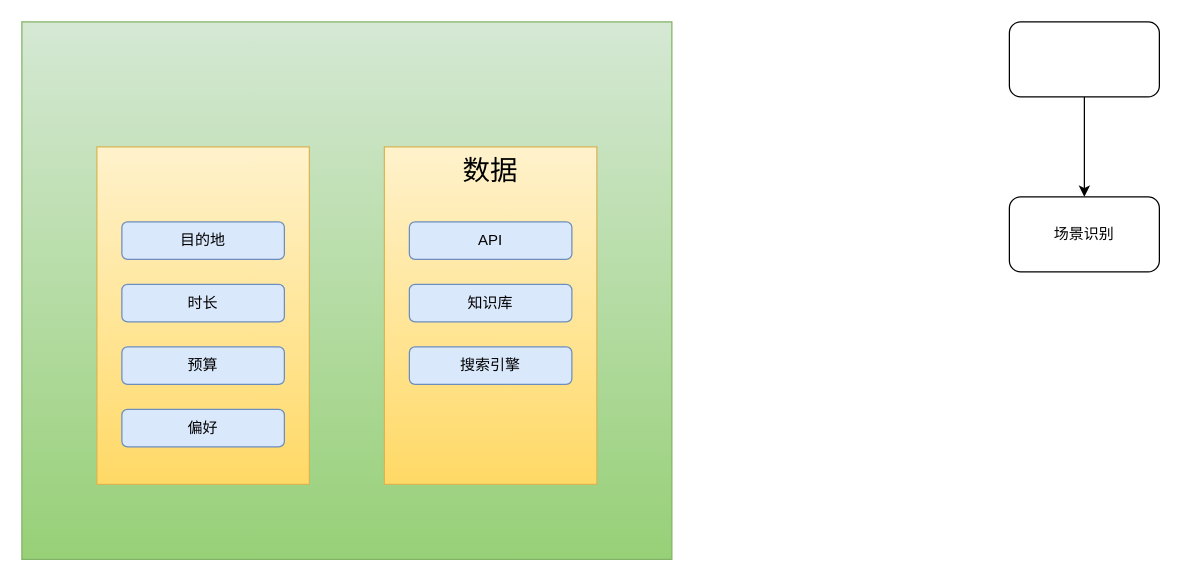
This 1181x581 diagram has some shape labels left out. Each missing label, with the box of its shape:
参数: (96, 146, 309, 484)
用户输入: (1008, 21, 1159, 97)
线路规划: (21, 21, 672, 559)
